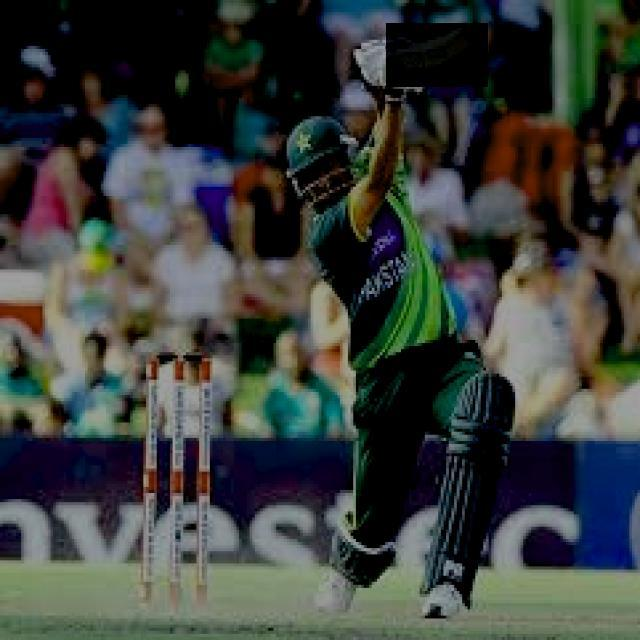bat: (386, 23, 489, 88)
